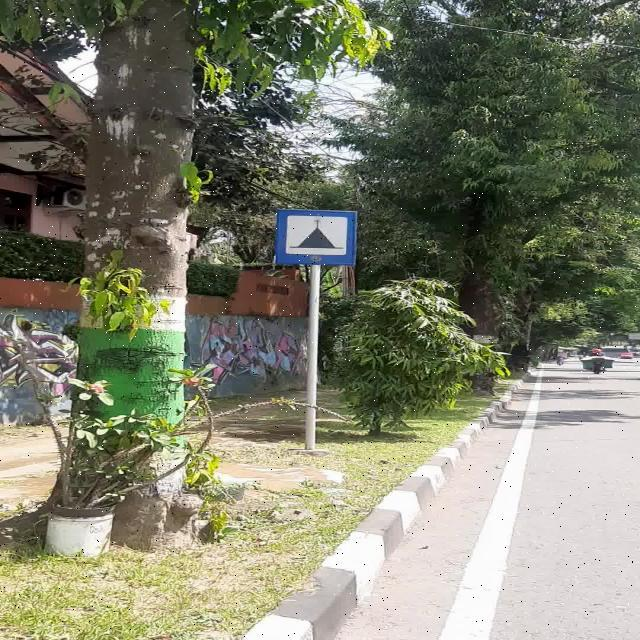Gereja: (275, 208, 357, 266)
